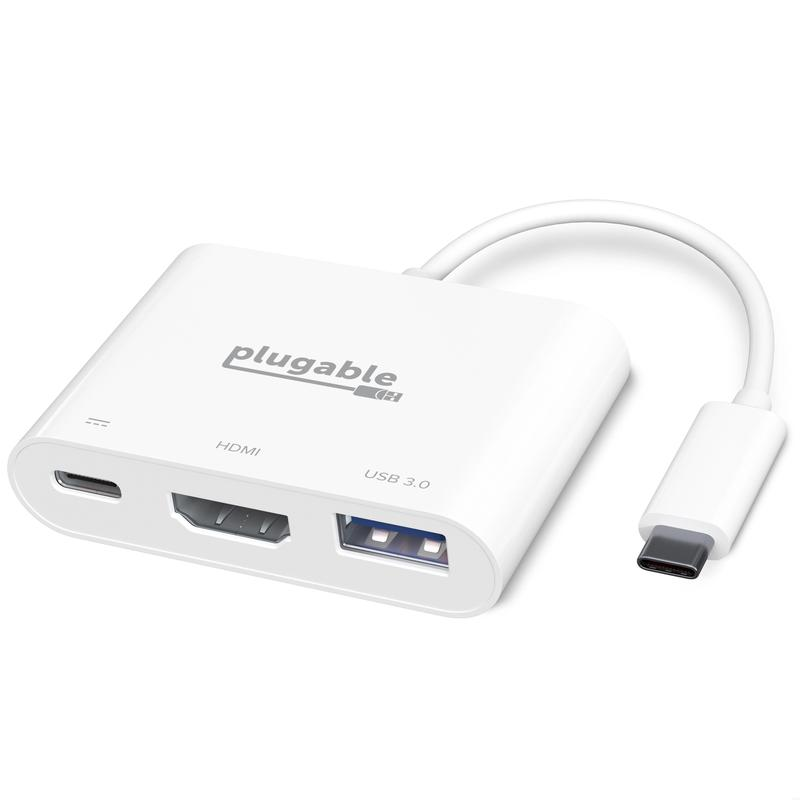HDMI: (161, 470, 297, 564)
USB: (323, 462, 474, 589)
USBC: (36, 449, 136, 512)
